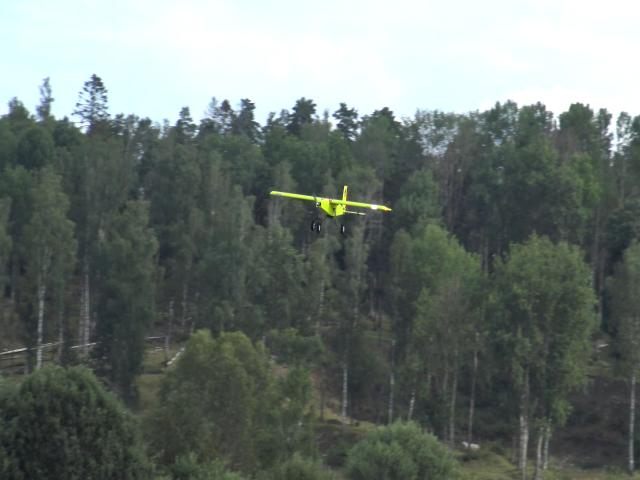plane: (270, 184, 392, 234)
